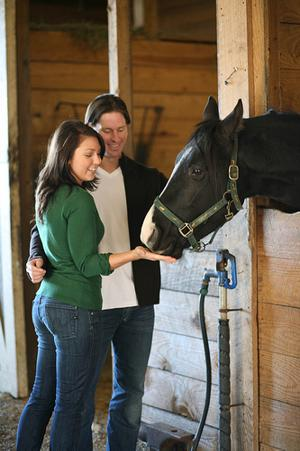person: (15, 120, 178, 451)
